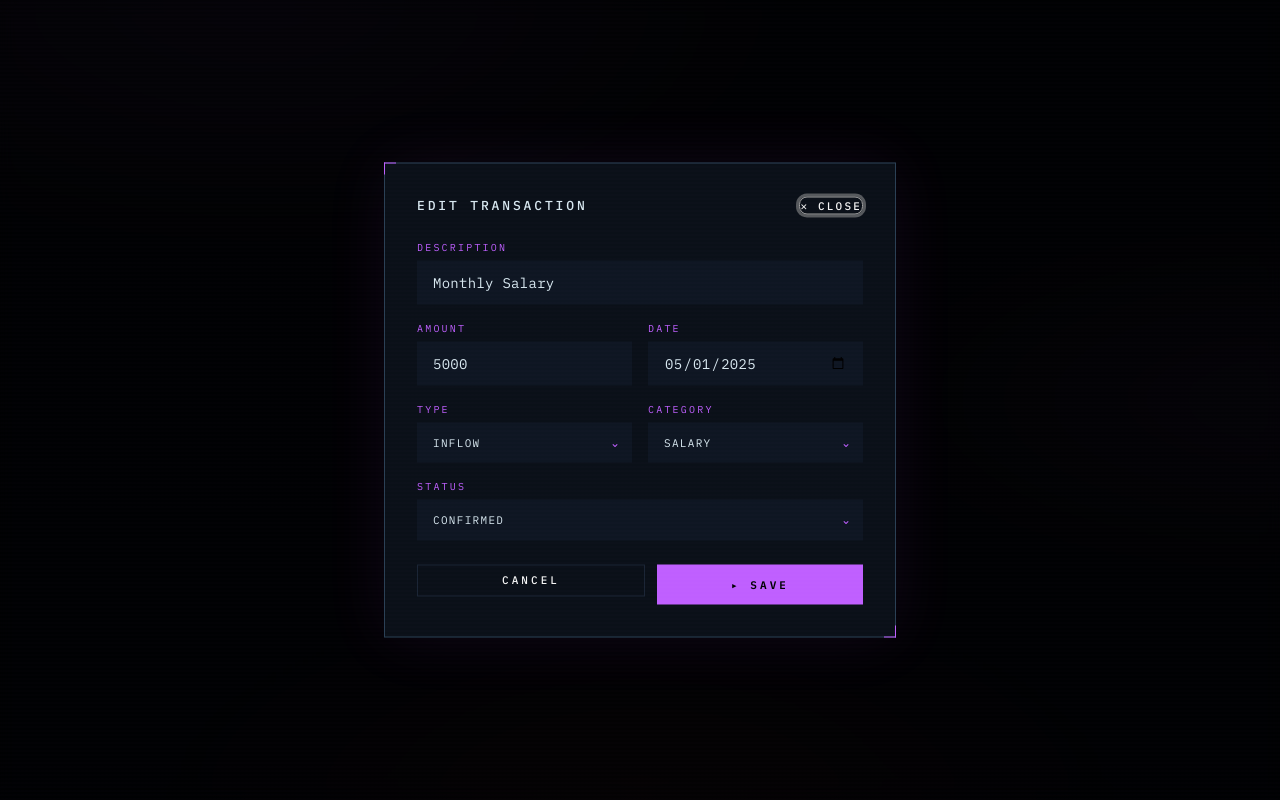
Test: EditTransactionModal › validation › shows amount error when amount is zero
The width and height of the screenshot is (1280, 800).
Replace the text in the number field with "0" at (524, 363), box left=417, top=341, right=632, bottom=385
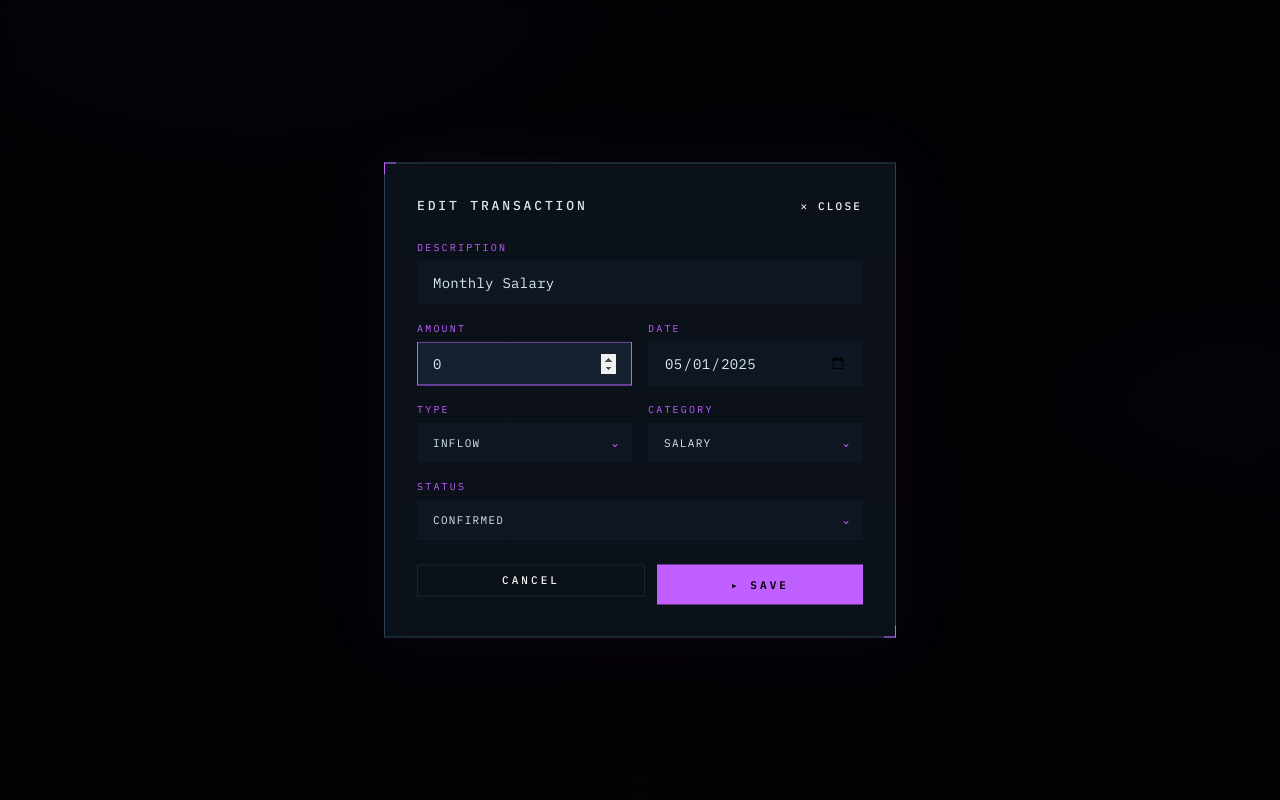
Click the button "▸ Save" at (760, 584), box left=657, top=564, right=863, bottom=604
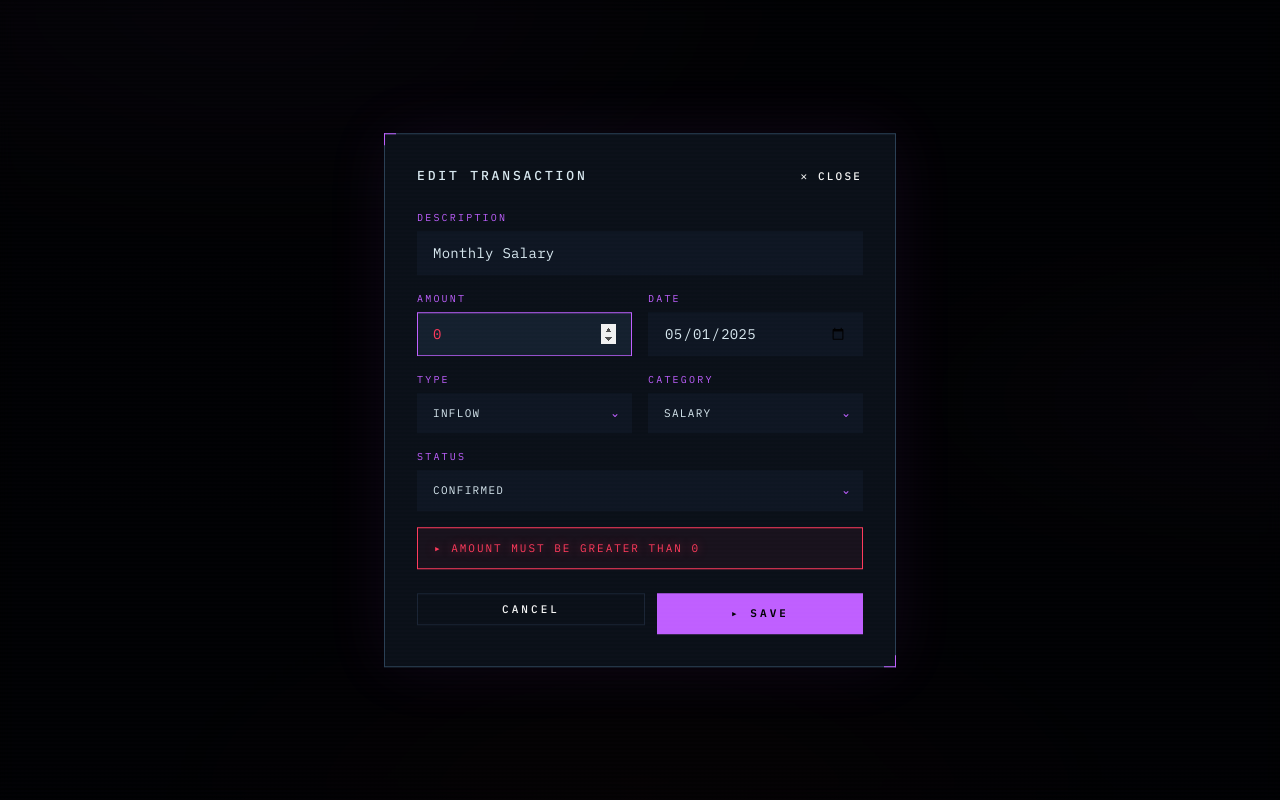
Now the text "▸ Amount must be greater than 0" is shown, box left=434, top=541, right=700, bottom=555
